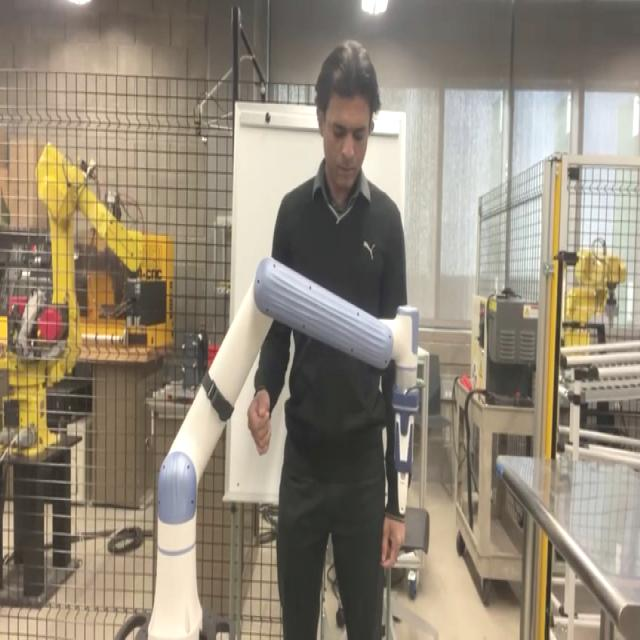robot: (114, 253, 420, 639)
